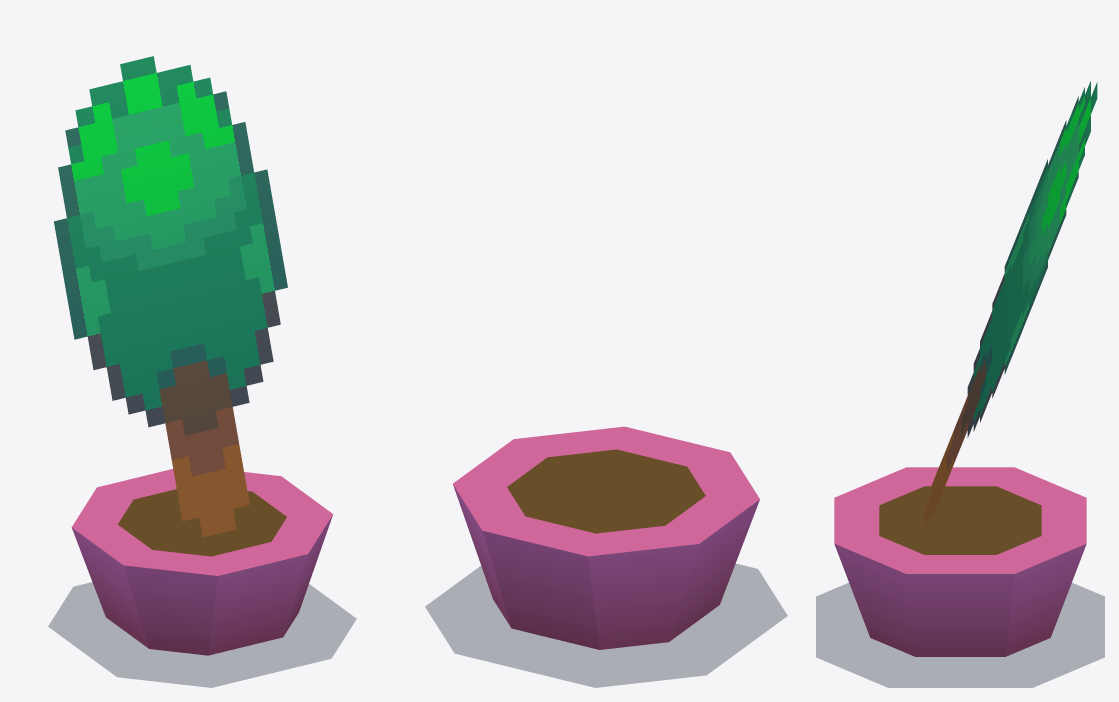
The picture shows the model from 3 angles, left to right: view 1: azimuth 30°, elevation 25°; view 2: azimuth 150°, elevation 25°; view 3: azimuth 270°, elevation 25°; orthographic projection. The views are drawn at different scales.
Size of the model in its own units: 1 by 2.11 by 1.
2 materials, 1 textured.
